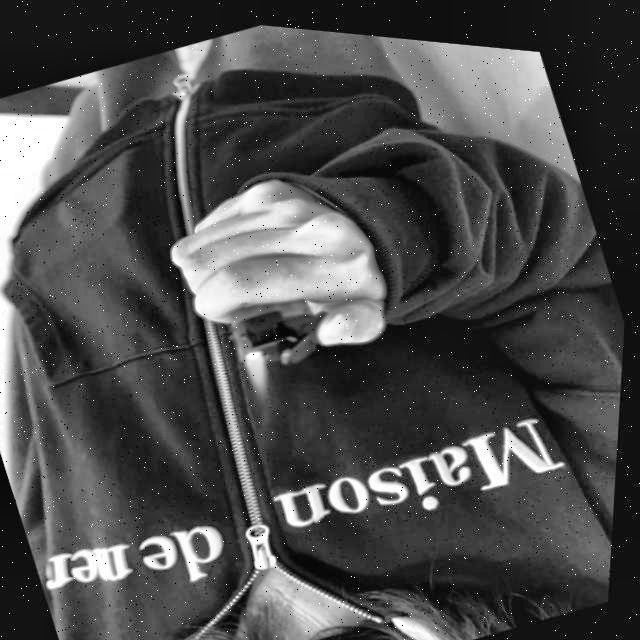Fire: (240, 338, 286, 399)
